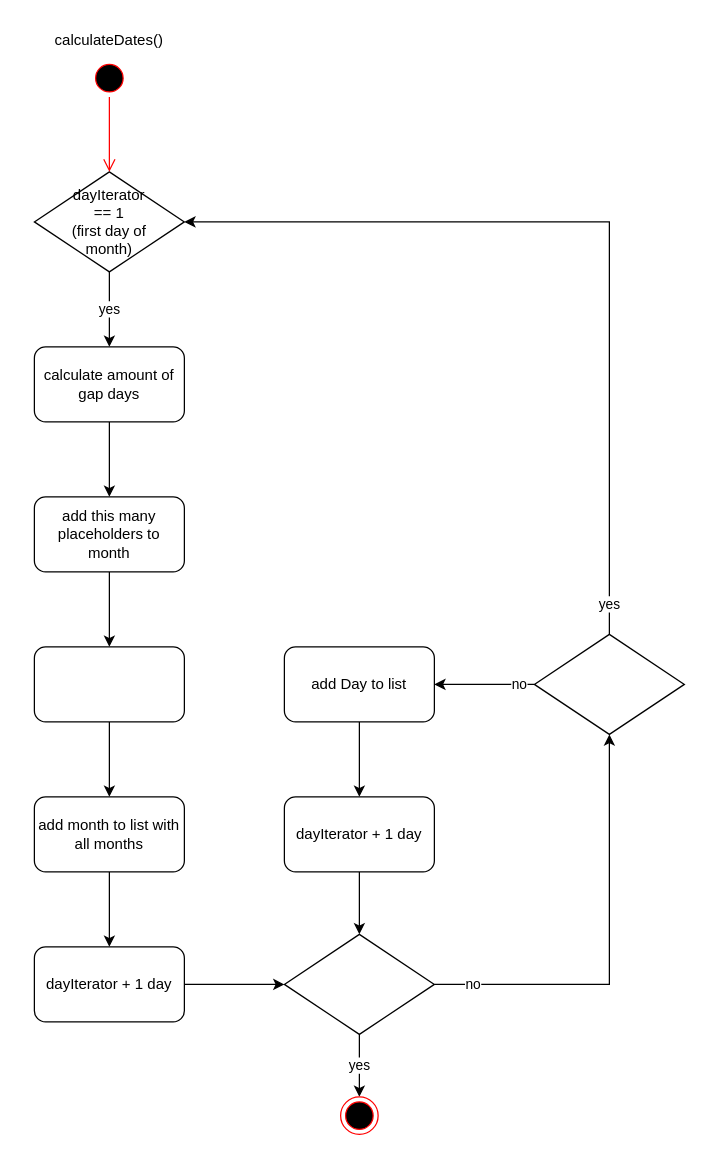
Image size: 706x1156. Some labels were removed from this diagram. Here are the shapes that lost their labels. From the top down, the centre of each, then its label:
At (x=108, y=684): "add first day to to month".
At (x=608, y=683): "iteration in next month".
At (x=358, y=983): "calendarEnd reached".
